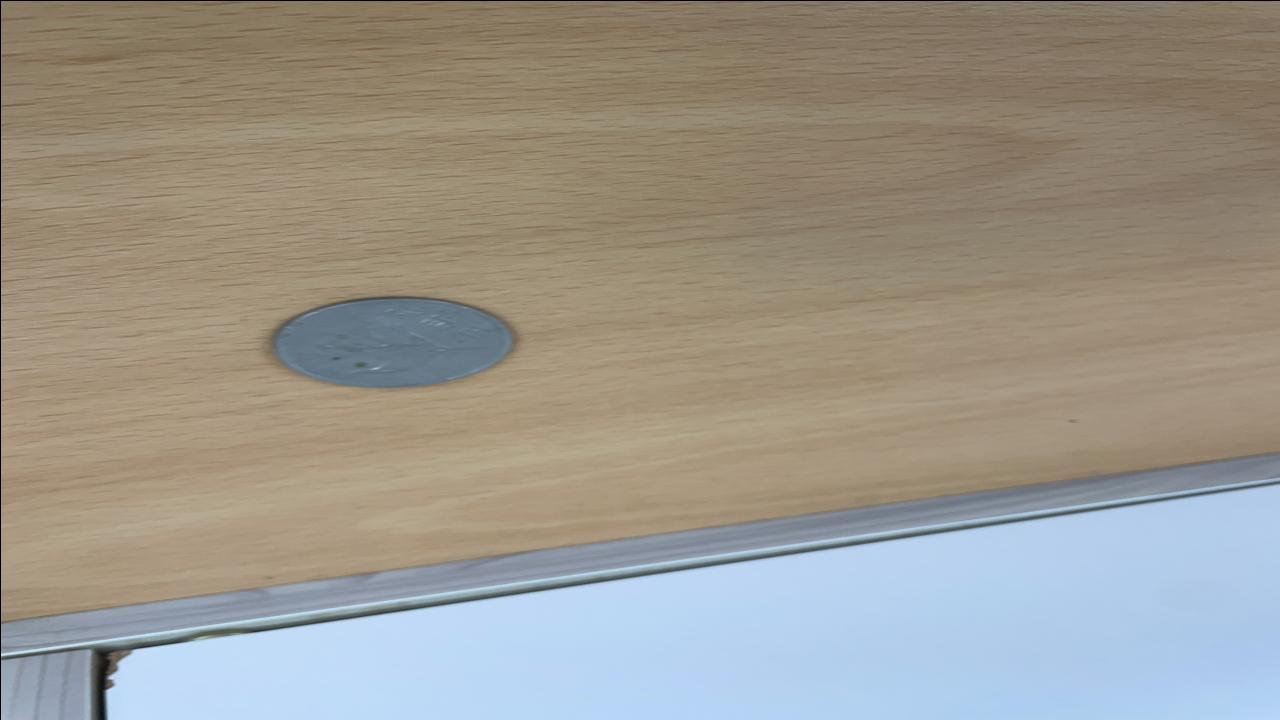coin: (265, 294, 520, 390)
